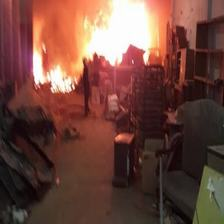fire: (77, 11, 173, 62), (28, 24, 82, 93)
